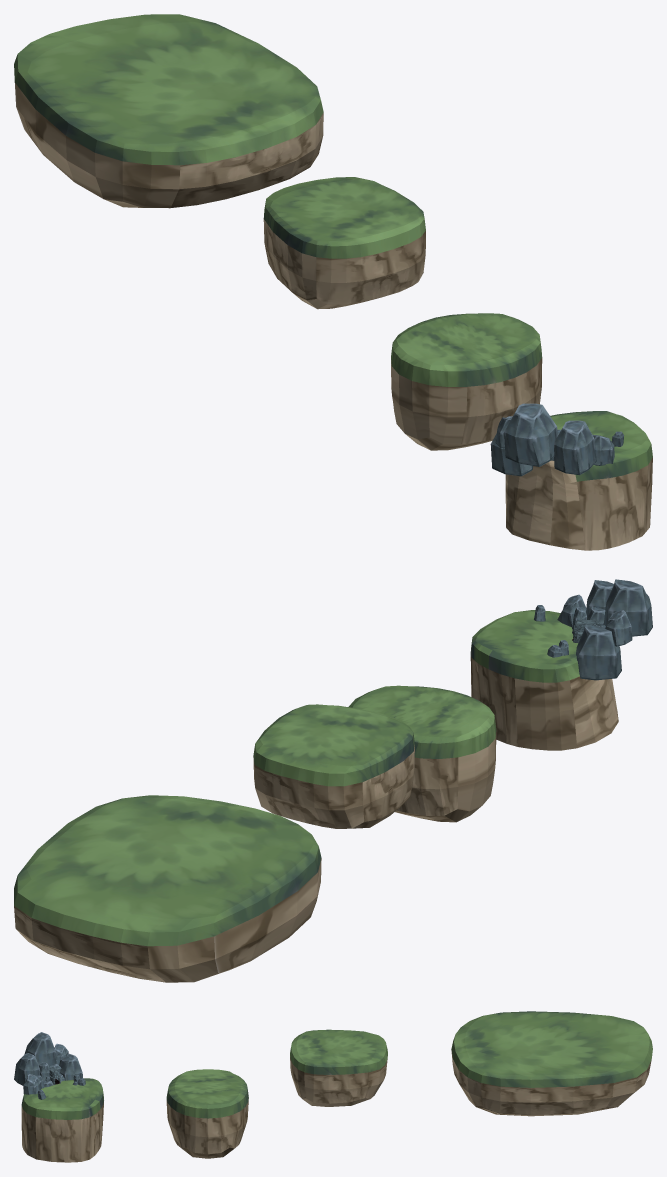
File: 山洞外.fbx
3 views of the same model, one above another, from view 1: azimuth 30°, elevation 25°; view 2: azimuth 150°, elevation 25°; view 3: azimuth 270°, elevation 25° (orthographic). The views are drawn at different scales.
Visible parts, largest first — view 1: 地板, 石頭; view 2: 地板, 石頭; view 3: 地板, 石頭.
Part boxes in pixels (<box>): 地板: <box>14,14,652,550</box>; 石頭: <box>490,403,624,476</box>; 地板: <box>14,610,618,982</box>; 石頭: <box>534,579,652,680</box>; 地板: <box>21,1011,652,1162</box>; 石頭: <box>14,1032,85,1099</box>.
Bounding box in the file's own units: 4764 × 3054 × 18331.
Materials: 4 (3 with a texture image).
